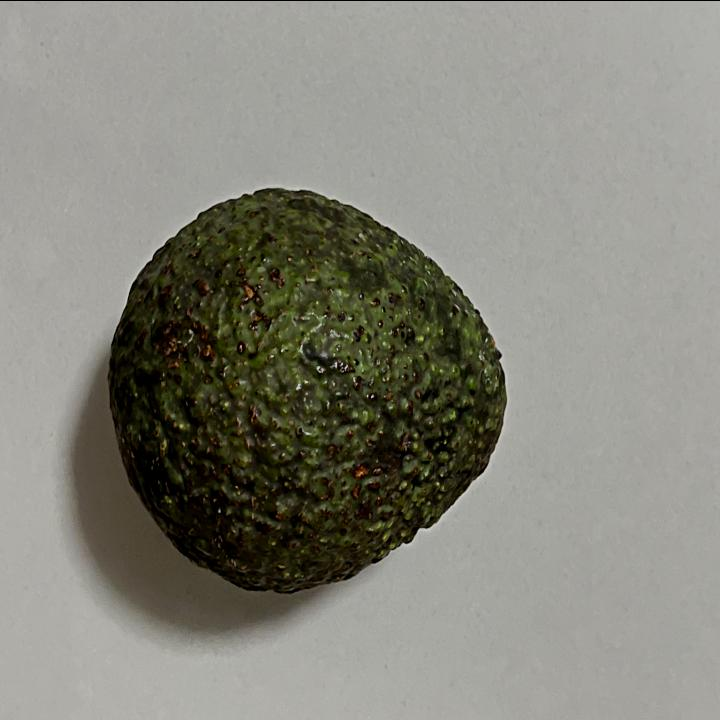Level1: (97, 166, 525, 610)
